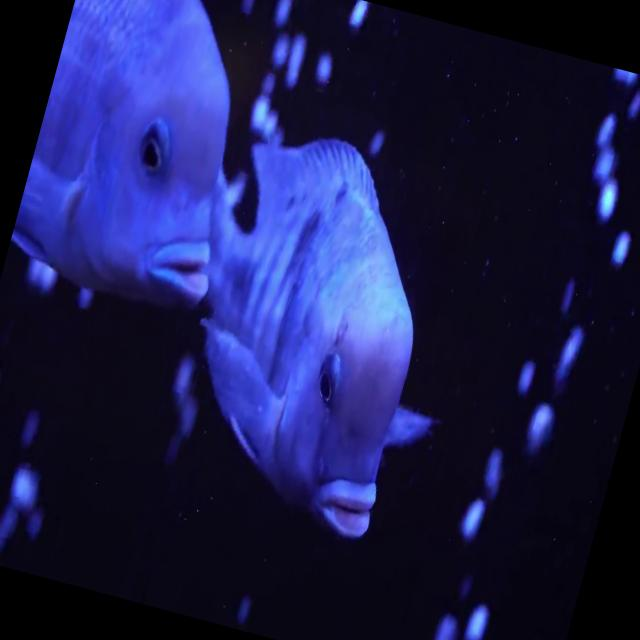fish: (134, 110, 484, 548), (3, 0, 292, 318)
